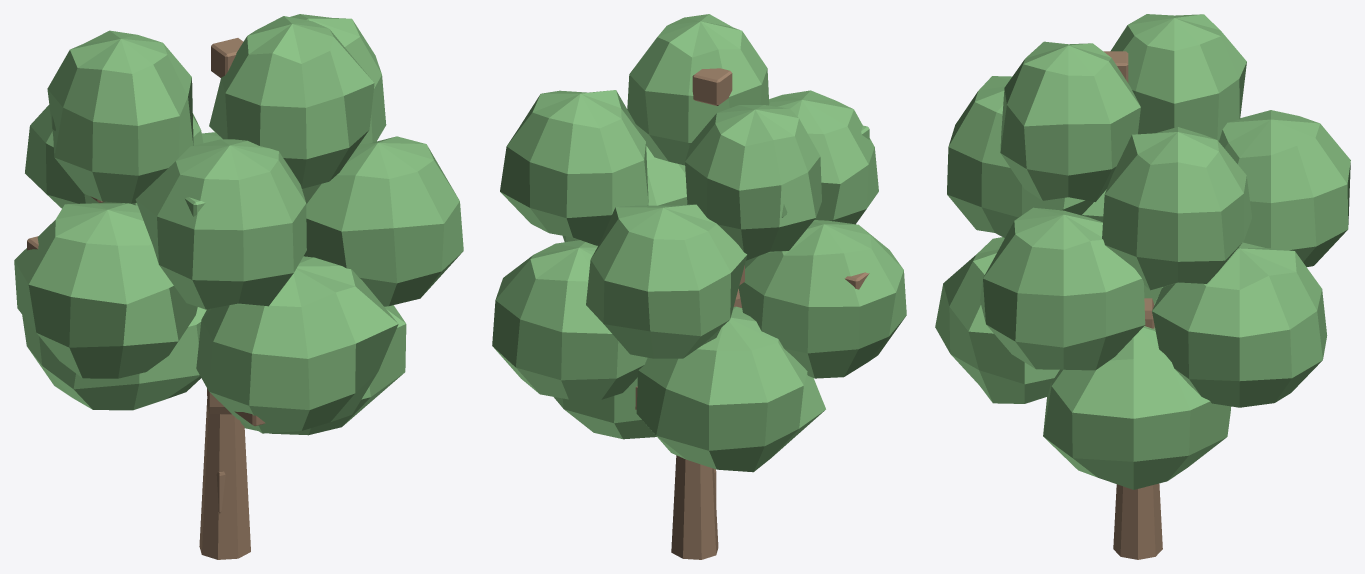
The model's file is b08_sugar_maple.glb.
3 views of the same model, side by side, from view 1: azimuth 30°, elevation 25°; view 2: azimuth 150°, elevation 25°; view 3: azimuth 270°, elevation 25° (orthographic). The views are drawn at different scales.
Visible parts, largest first — view 1: b08_sugar_maple; view 2: b08_sugar_maple; view 3: b08_sugar_maple.
Part boxes in pixels (<box>): b08_sugar_maple: <box>14,14,463,559</box>; b08_sugar_maple: <box>492,14,906,559</box>; b08_sugar_maple: <box>935,14,1350,559</box>.
Bounding box in the file's own units: 4.54 × 5.92 × 4.31.
